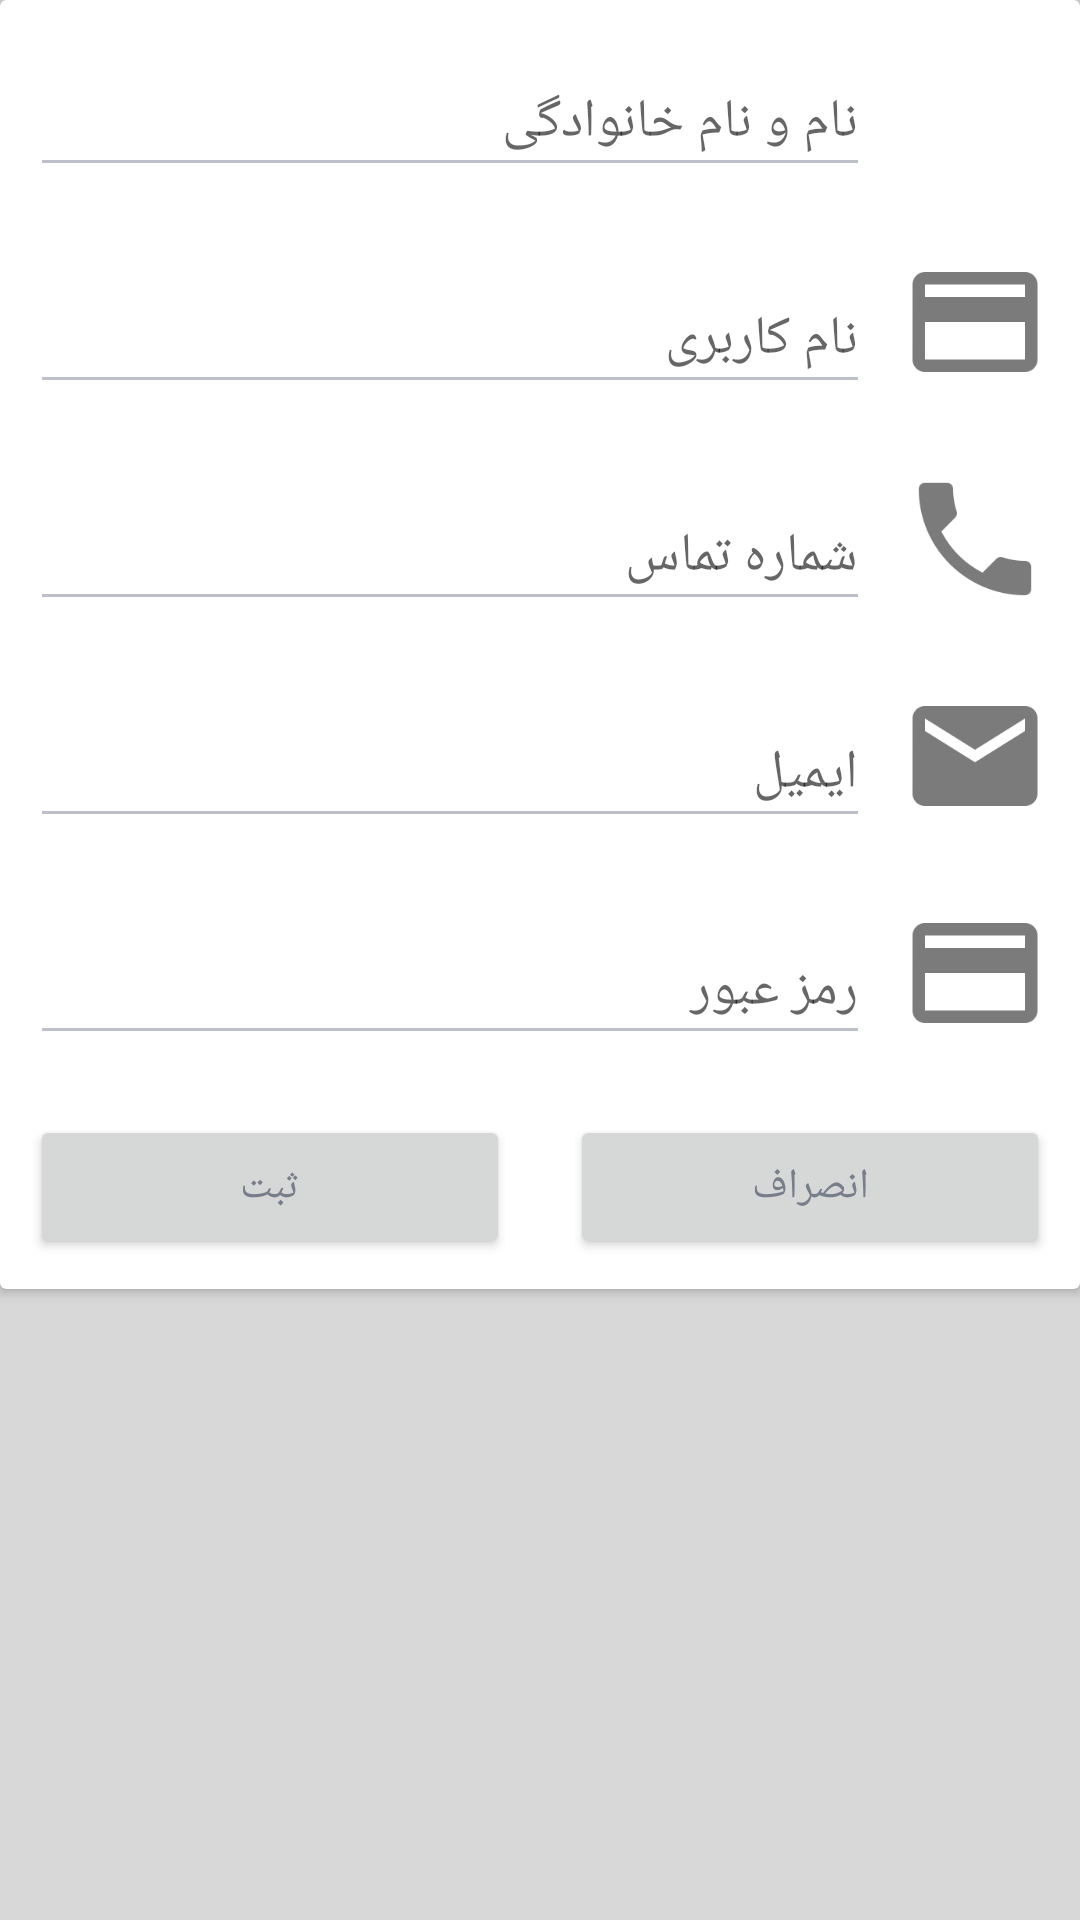

Icons on this 1080 × 1920 Android screen, each with its box as region(x1, y1, x2, y2):
call: region(919, 483, 1031, 595)
credit card: region(912, 272, 1038, 372), region(912, 923, 1038, 1023)
mail: region(912, 706, 1038, 806)
